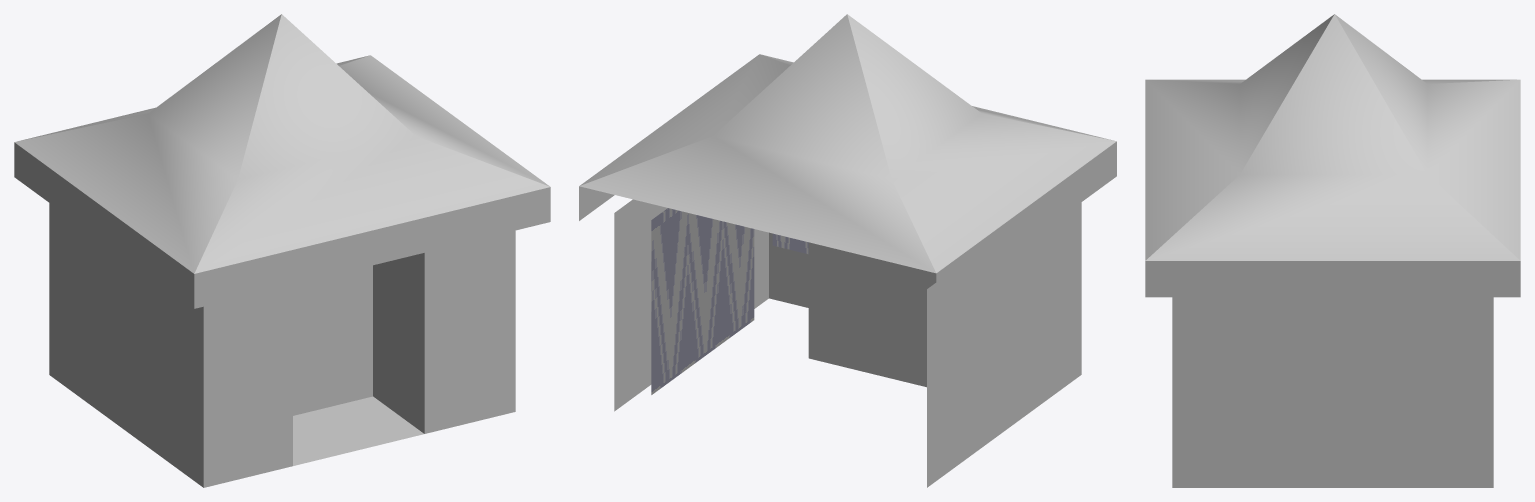
Rendered from c14_house_01.dae.
3 renders of one model, left to right at view 1: azimuth 30°, elevation 25°; view 2: azimuth 150°, elevation 25°; view 3: azimuth 270°, elevation 25°, orthographic. The views are drawn at different scales.
Parts seen in each view (by area): view 1: c14_house_01; view 2: c14_house_01; view 3: c14_house_01.
Boxes of the visible parts, x1,y1,x2,y2 form: c14_house_01: (14,14,550,487); c14_house_01: (579,14,1116,487); c14_house_01: (1145,14,1520,487).
Bounding box in the file's own units: 64 × 65 × 56.
